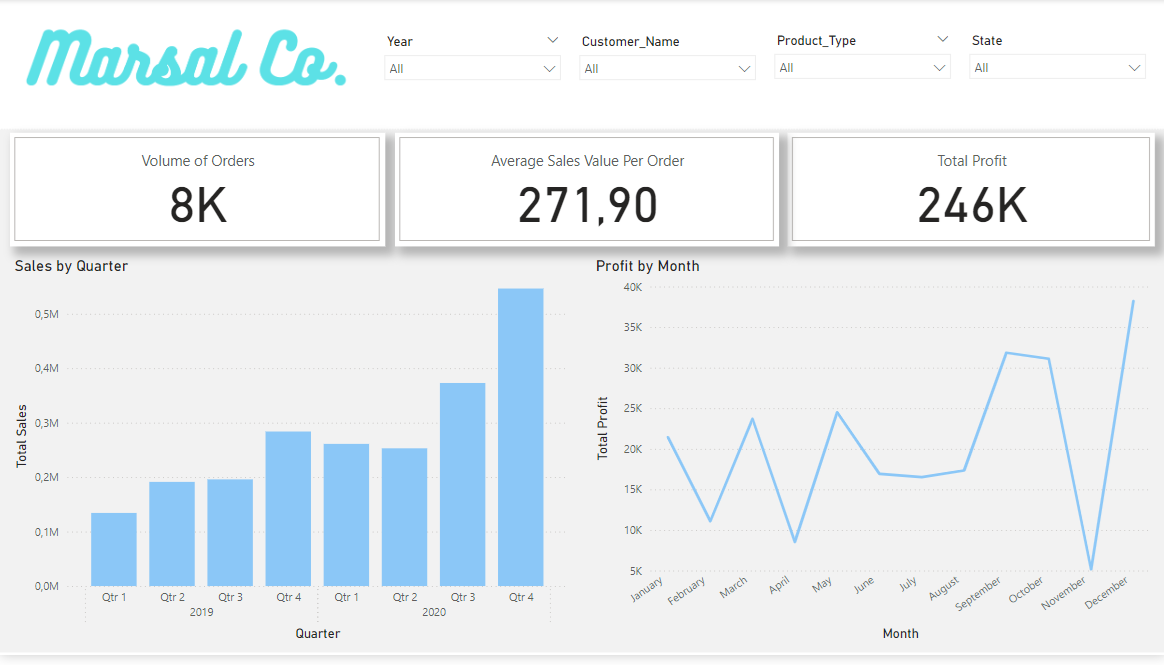

Layout of this report page (visuals, bound fields, positions):
{"tool":"powerbi","page":{"name":"Overview","canvas":[1280,720],"ordinal":0},"visuals":[{"type":"cardVisual","title":"Volume of Orders","fields":{"Data":["_Measures.Order_Volume"]},"box":[11,146.8,411.7,124.9],"z":0},{"type":"cardVisual","fields":{"Data":["_Measures.Total Profit"]},"box":[864.5,146.8,403.4,124.9],"z":1000},{"type":"cardVisual","title":"Average Order Value","fields":{"Data":["_Measures.Average Sales Value Per Order"]},"box":[433.6,146.8,421.3,124.9],"z":2000},{"type":"columnChart","title":"Sales by Quarter","fields":{"Category":["Dim_Date.Date.Variation.Date Hierarchy.Year","Dim_Date.Date.Variation.Date Hierarchy.Quarter"],"Y":["_Measures.Total Sales"]},"box":[11,282.7,617.5,426.8],"z":3000},{"type":"lineChart","title":"Profit by Month","fields":{"Y":["_Measures.Total Profit"],"Category":["Dim_Date.Date.Variation.Date Hierarchy.Year","Dim_Date.Date.Variation.Date Hierarchy.Month"]},"box":[649.1,282.7,618.9,426.8],"z":4000},{"type":"slicer","fields":{"Values":["Dim_Location.State"]},"box":[1053.9,72.7,214.1,67.2],"z":5000},{"type":"slicer","fields":{"Values":["Dim_Date.Date.Variation.Date Hierarchy.Year"]},"box":[411.7,67.2,214.1,67.2],"z":6000},{"type":"slicer","fields":{"Values":["Dim_Client.Customer_Name"]},"box":[625.7,67.2,214.1,67.2],"z":7000},{"type":"slicer","fields":{"Values":["Dim_Product.Product_Type"]},"box":[839.8,72.7,214.1,67.2],"z":8000},{"type":"image","box":[11,9.6,391.1,124.9],"z":9000},{"type":"shape","box":[415.5,9.6,864.5,52.1],"z":9001},{"type":"textbox","box":[980.9,9.6,299.1,52.1],"z":9002}]}

Visuals, with their boxes in screenshot pixels (x1, y1, x2, y2), scaled from the page's 1280x720 canvas onto the 1164x665 screenshot:
"Volume of Orders" cardVisual: 10:136:384:251
cardVisual - _Measures.Total Profit: 786:136:1153:251
"Average Order Value" cardVisual: 394:136:777:251
"Sales by Quarter" columnChart: 10:261:572:655
"Profit by Month" lineChart: 590:261:1153:655
slicer - Dim_Location.State: 958:67:1153:129
slicer - Dim_Date.Date.Variation.Date Hierarchy.Year: 374:62:569:124
slicer - Dim_Client.Customer_Name: 569:62:764:124
slicer - Dim_Product.Product_Type: 764:67:958:129
image: 10:9:366:124
shape: 378:9:1163:57
textbox: 892:9:1163:57
